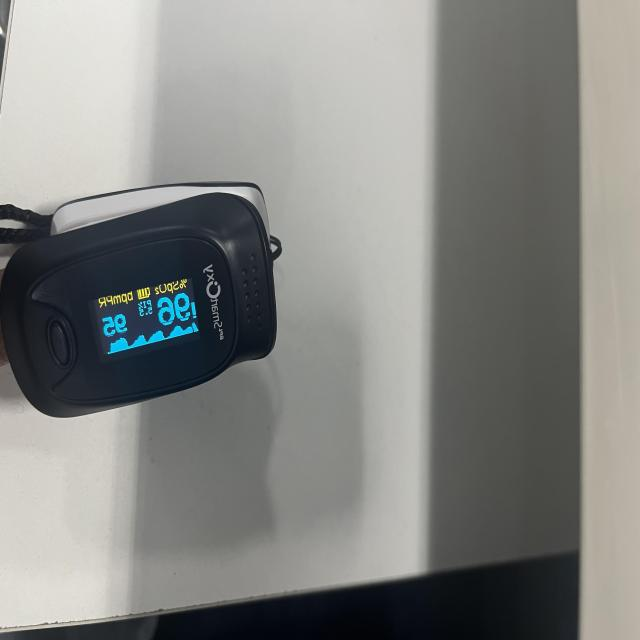spo2: (0, 183, 282, 422)
